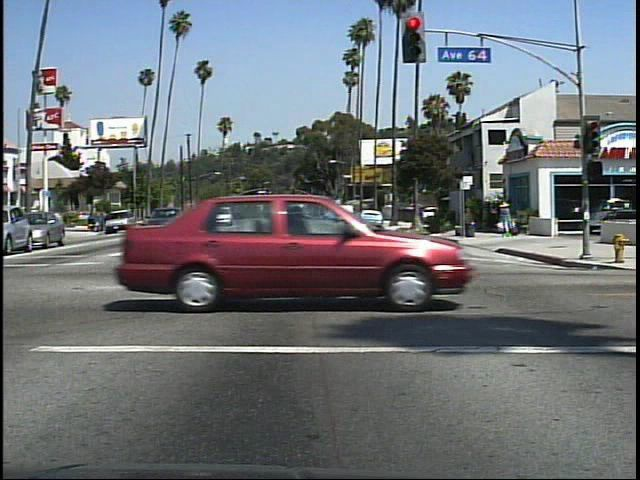person: (493, 195, 519, 241)
